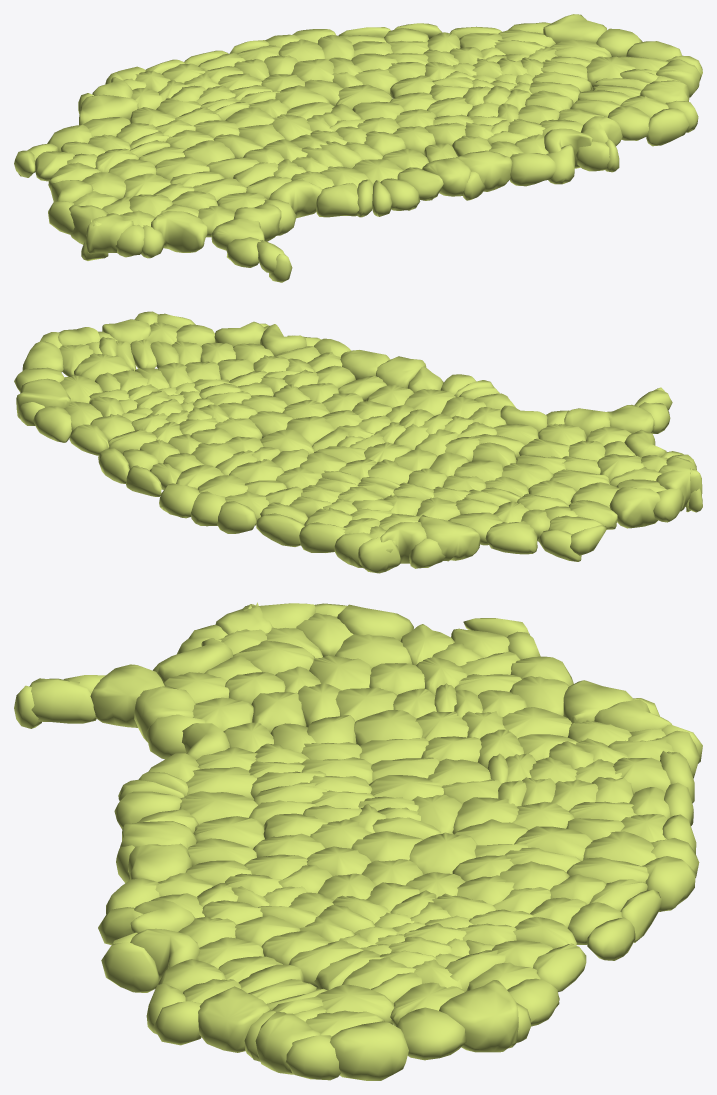
File: Islands1.005_fog.fbx
3 renders of one model, top to bottom at view 1: azimuth 30°, elevation 25°; view 2: azimuth 150°, elevation 25°; view 3: azimuth 270°, elevation 25°, orthographic. The views are drawn at different scales.
Parts seen in each view (by area): view 1: Island1.005_fog_cell.079, Island1.005_fog_cell.122, Island1.005_fog_cell.123, Island1.005_fog_cell.169, Island1.005_fog_cell.065, Island1.005_fog_cell.121, Island1.005_fog_cell.132, Island1.005_fog_cell.094, Island1.005_fog_cell.212, Island1.005_fog_cell.178, Island1.005_fog_cell.161, Island1.005_fog_cell.216 (+122 smaller); view 2: Island1.005_fog_cell.132, Island1.005_fog_cell.081, Island1.005_fog_cell.196, Island1.005_fog_cell.121, Island1.005_fog_cell.147, Island1.005_fog_cell.151, Island1.005_fog_cell.054, Island1.005_fog_cell.057, Island1.005_fog_cell.146, Island1.005_fog_cell.150, Island1.005_fog_cell.178, Island1.005_fog_cell.033 (+134 smaller); view 3: Island1.005_fog_cell.121, Island1.005_fog_cell.015, Island1.005_fog_cell.160, Island1.005_fog_cell.161, Island1.005_fog_cell.117, Island1.005_fog_cell.028, Island1.005_fog_cell.142, Island1.005_fog_cell.077, Island1.005_fog_cell.066, Island1.005_fog_cell.122, Island1.005_fog_cell.150, Island1.005_fog_cell.105 (+152 smaller).
Boxes of the visible parts, x1,y1,x2,y2 form: Island1.005_fog_cell.079: [151, 211, 207, 252]; Island1.005_fog_cell.122: [456, 150, 512, 191]; Island1.005_fog_cell.123: [86, 213, 133, 254]; Island1.005_fog_cell.169: [509, 153, 555, 186]; Island1.005_fog_cell.065: [316, 183, 359, 217]; Island1.005_fog_cell.121: [543, 14, 606, 43]; Island1.005_fog_cell.132: [79, 94, 138, 124]; Island1.005_fog_cell.094: [646, 108, 689, 146]; Island1.005_fog_cell.212: [269, 179, 322, 218]; Island1.005_fog_cell.178: [422, 157, 471, 196]; Island1.005_fog_cell.161: [211, 219, 264, 250]; Island1.005_fog_cell.216: [608, 106, 650, 140]; Island1.005_fog_cell.132: [418, 515, 480, 561]; Island1.005_fog_cell.081: [609, 487, 660, 528]; Island1.005_fog_cell.196: [485, 521, 537, 554]; Island1.005_fog_cell.121: [16, 378, 71, 419]; Island1.005_fog_cell.147: [358, 537, 400, 573]; Island1.005_fog_cell.151: [256, 513, 304, 546]; Island1.005_fog_cell.054: [299, 522, 346, 552]; Island1.005_fog_cell.057: [33, 406, 71, 442]; Island1.005_fog_cell.146: [380, 522, 426, 563]; Island1.005_fog_cell.150: [159, 483, 199, 518]; Island1.005_fog_cell.178: [376, 356, 426, 388]; Island1.005_fog_cell.033: [217, 501, 256, 533]; Island1.005_fog_cell.121: [439, 980, 518, 1052]; Island1.005_fog_cell.015: [330, 1021, 408, 1080]; Island1.005_fog_cell.160: [198, 986, 269, 1052]; Island1.005_fog_cell.161: [90, 664, 164, 727]; Island1.005_fog_cell.117: [396, 1007, 466, 1060]; Island1.005_fog_cell.028: [29, 678, 96, 723]; Island1.005_fog_cell.142: [255, 1012, 320, 1074]; Island1.005_fog_cell.077: [101, 942, 159, 992]; Island1.005_fog_cell.066: [409, 832, 477, 874]; Island1.005_fog_cell.122: [128, 843, 192, 881]; Island1.005_fog_cell.150: [642, 856, 695, 911]; Island1.005_fog_cell.105: [285, 1035, 340, 1080].
Size of the model in its own units: 174 by 11.63 by 112.
